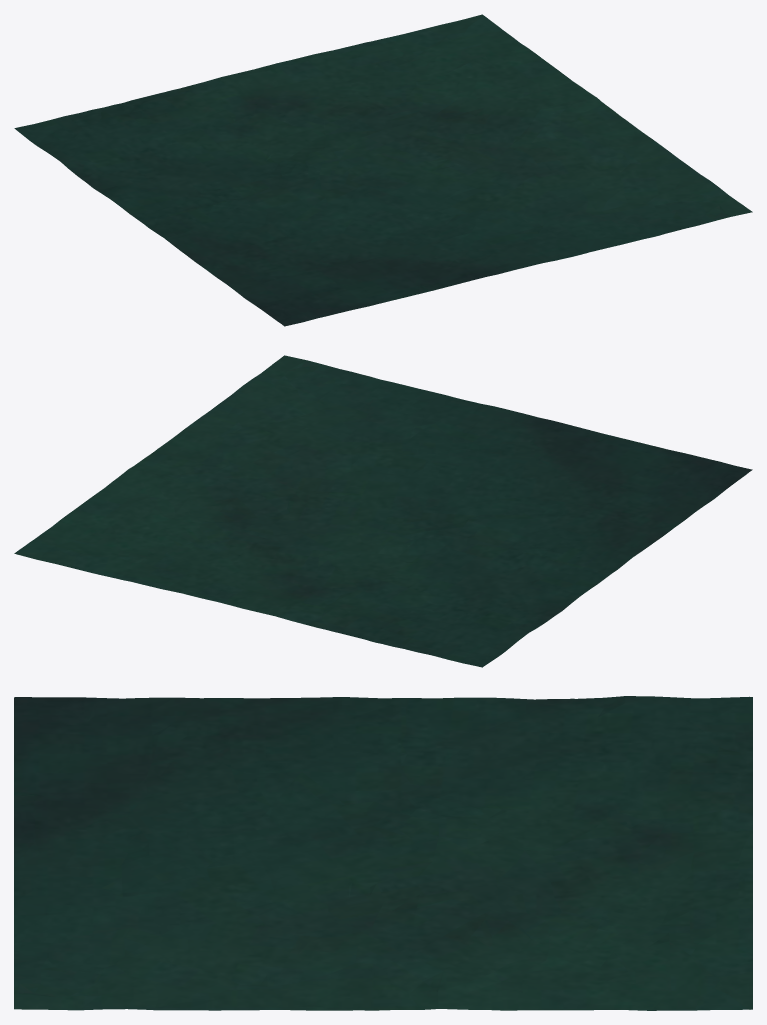
The picture shows the model from 3 angles, top to bottom: view 1: azimuth 30°, elevation 25°; view 2: azimuth 150°, elevation 25°; view 3: azimuth 270°, elevation 25°; orthographic projection. The views are drawn at different scales.
Size of the model in its own units: 104 by 0.7522 by 104.
Materials: 2 (2 with a texture image).
